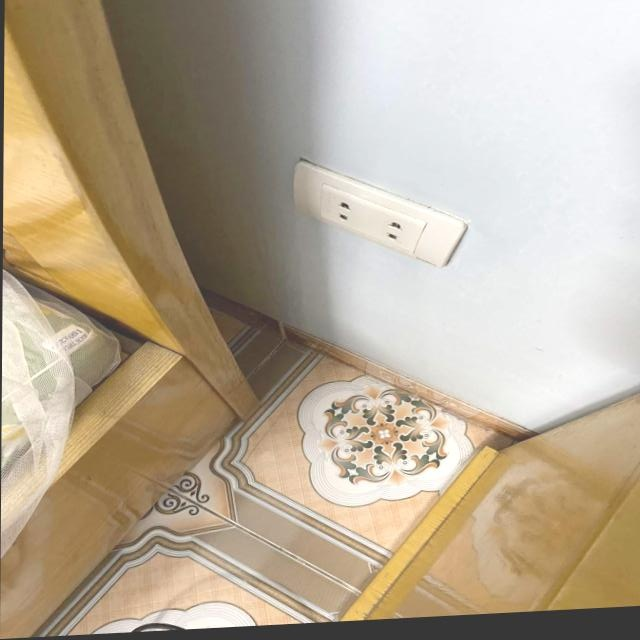outlet: (292, 150, 468, 277)
